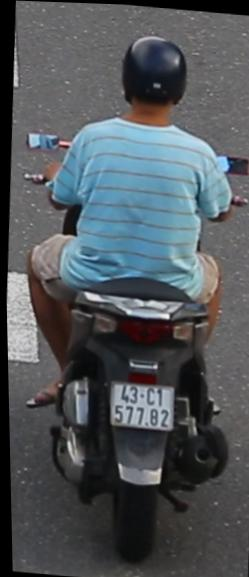LP: (103, 373, 175, 433)
helmet: (112, 28, 191, 130)
